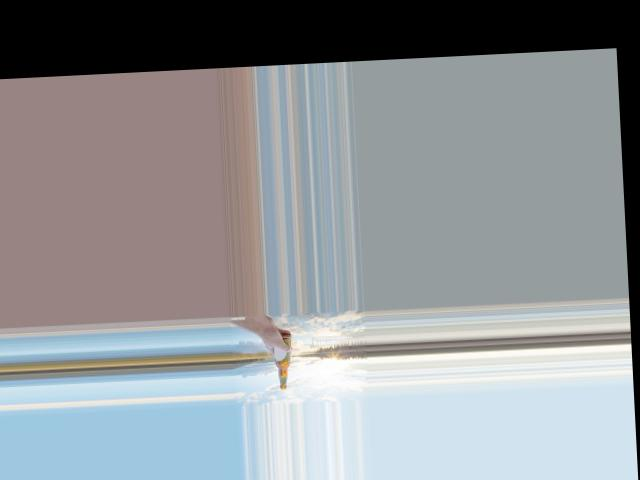beer: (273, 332, 294, 389)
